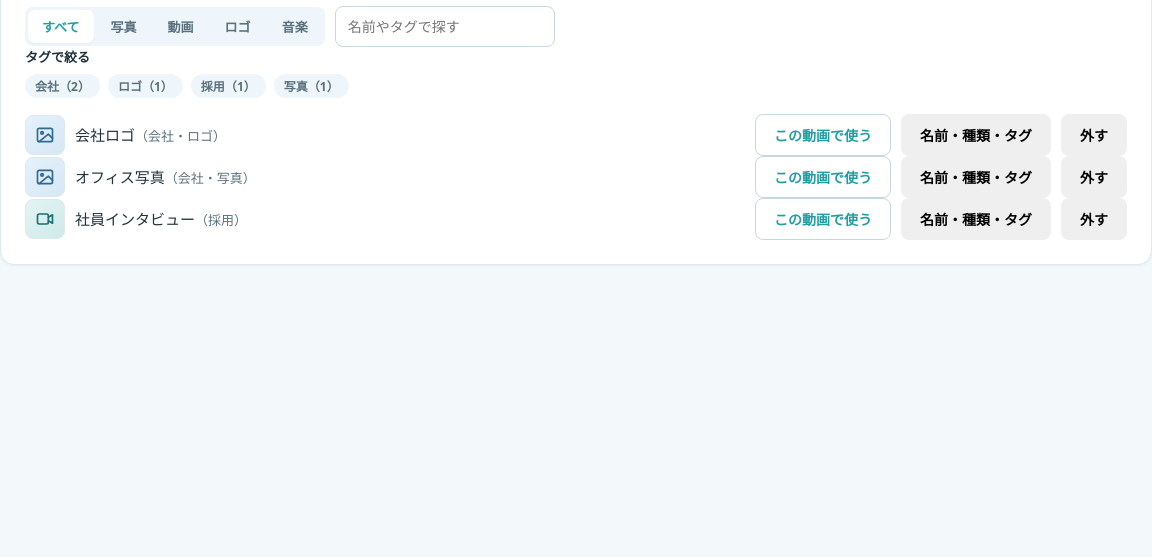
Test: AssetLibraryPanel › 会社の見た目の断りのあと、関係ない失敗に変わったらその入口は消える
Expected: the text "会社ロゴ" is shown, x1=75 y1=125 x2=135 y2=145
Click the button "外す" in the row of "会社ロゴ". click: (1094, 135)
box: x1=1061 y1=114 x2=1127 y2=156
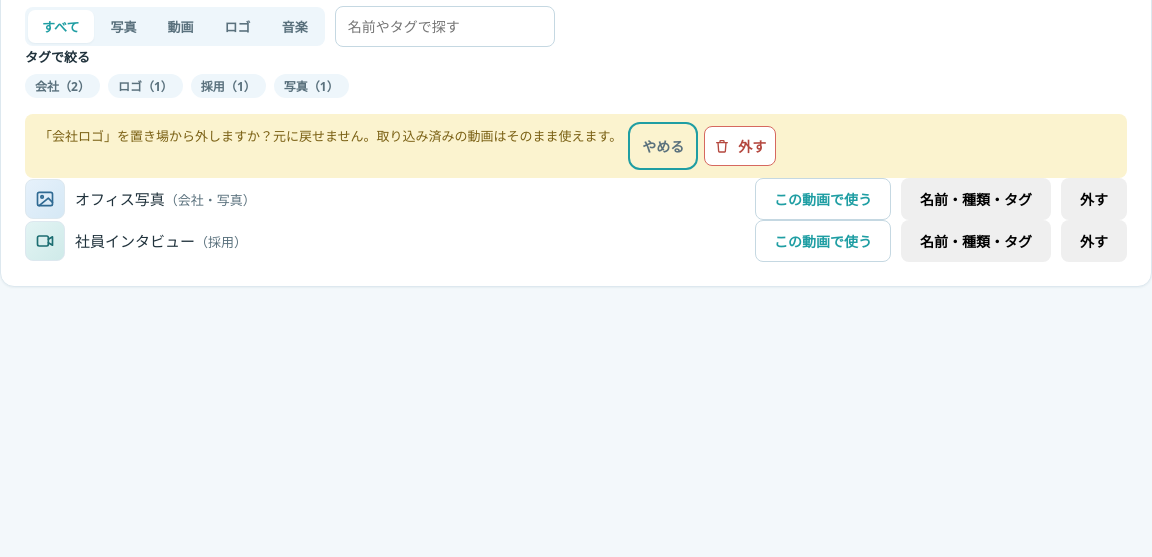
Click the 1st button "外す". click: (740, 146)
box: x1=704 y1=126 x2=776 y2=166
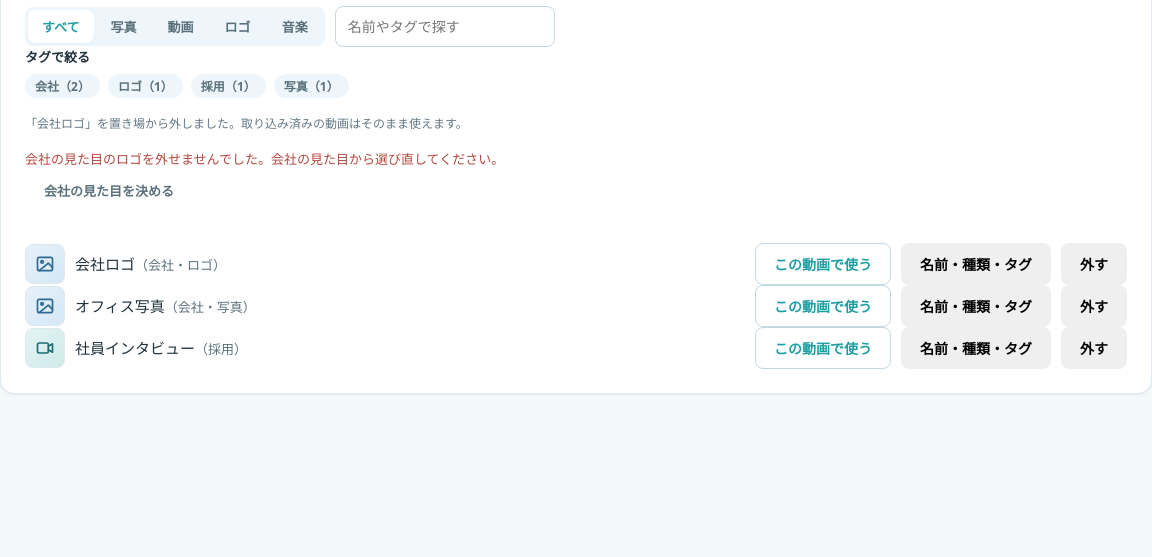
Expected: the text "会社の見た目のロゴを外せませんでした。会社の見た目から選び直してください。 会社の見た目を決める" is shown, x1=25 y1=150 x2=504 y2=211
Click the button "名前・種類・タグ" in the row of "オフィス写真". click: (976, 306)
box: x1=901 y1=285 x2=1051 y2=327
(page scrolled)
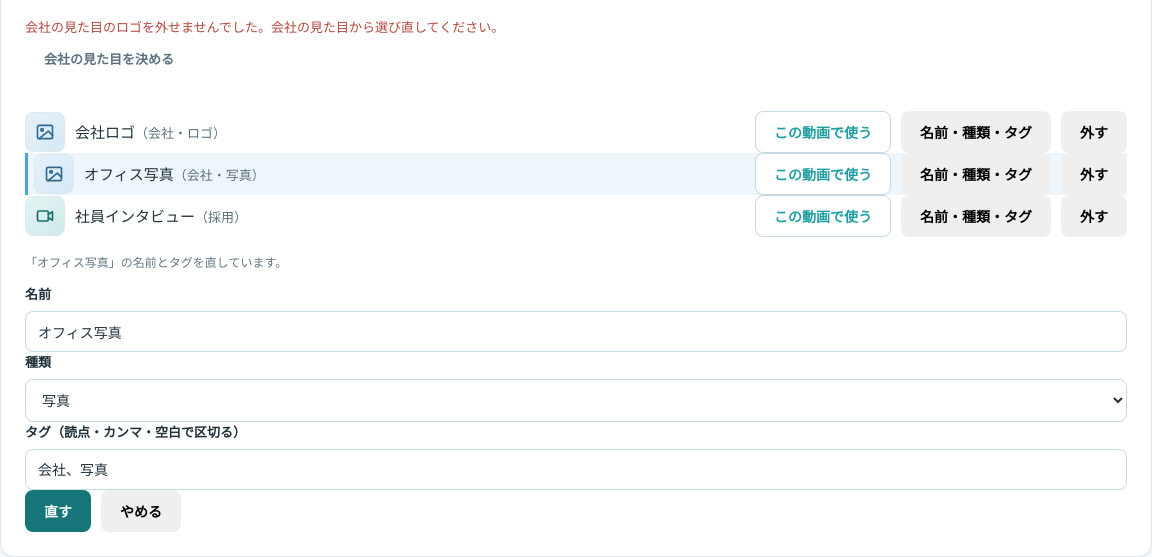
Click the button "直す". click: (58, 511)
box: x1=25 y1=490 x2=91 y2=532
(page scrolled)
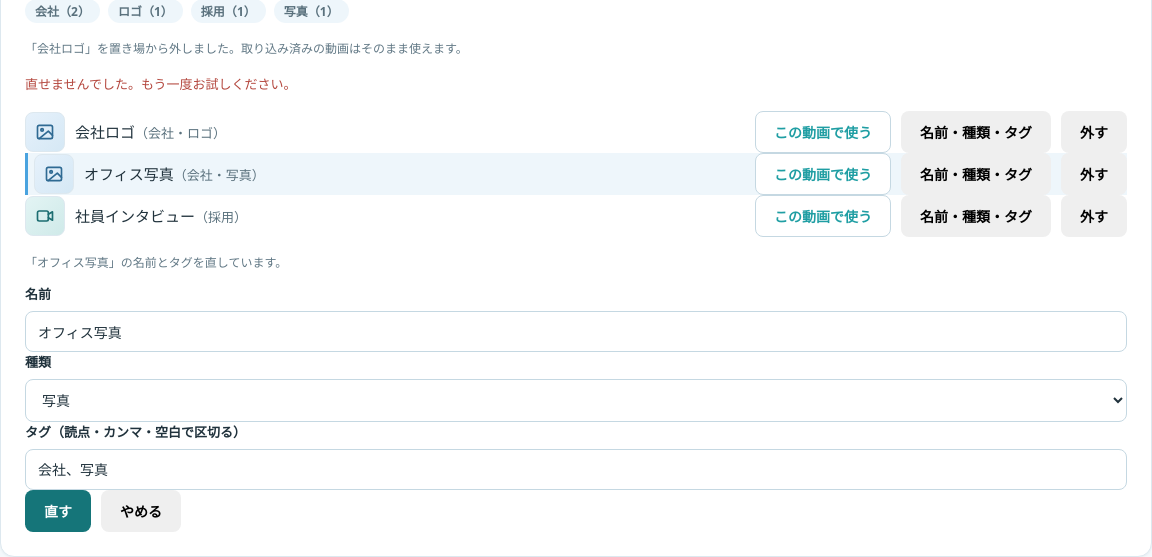
Expected: the button "会社の見た目を決める" is gone
